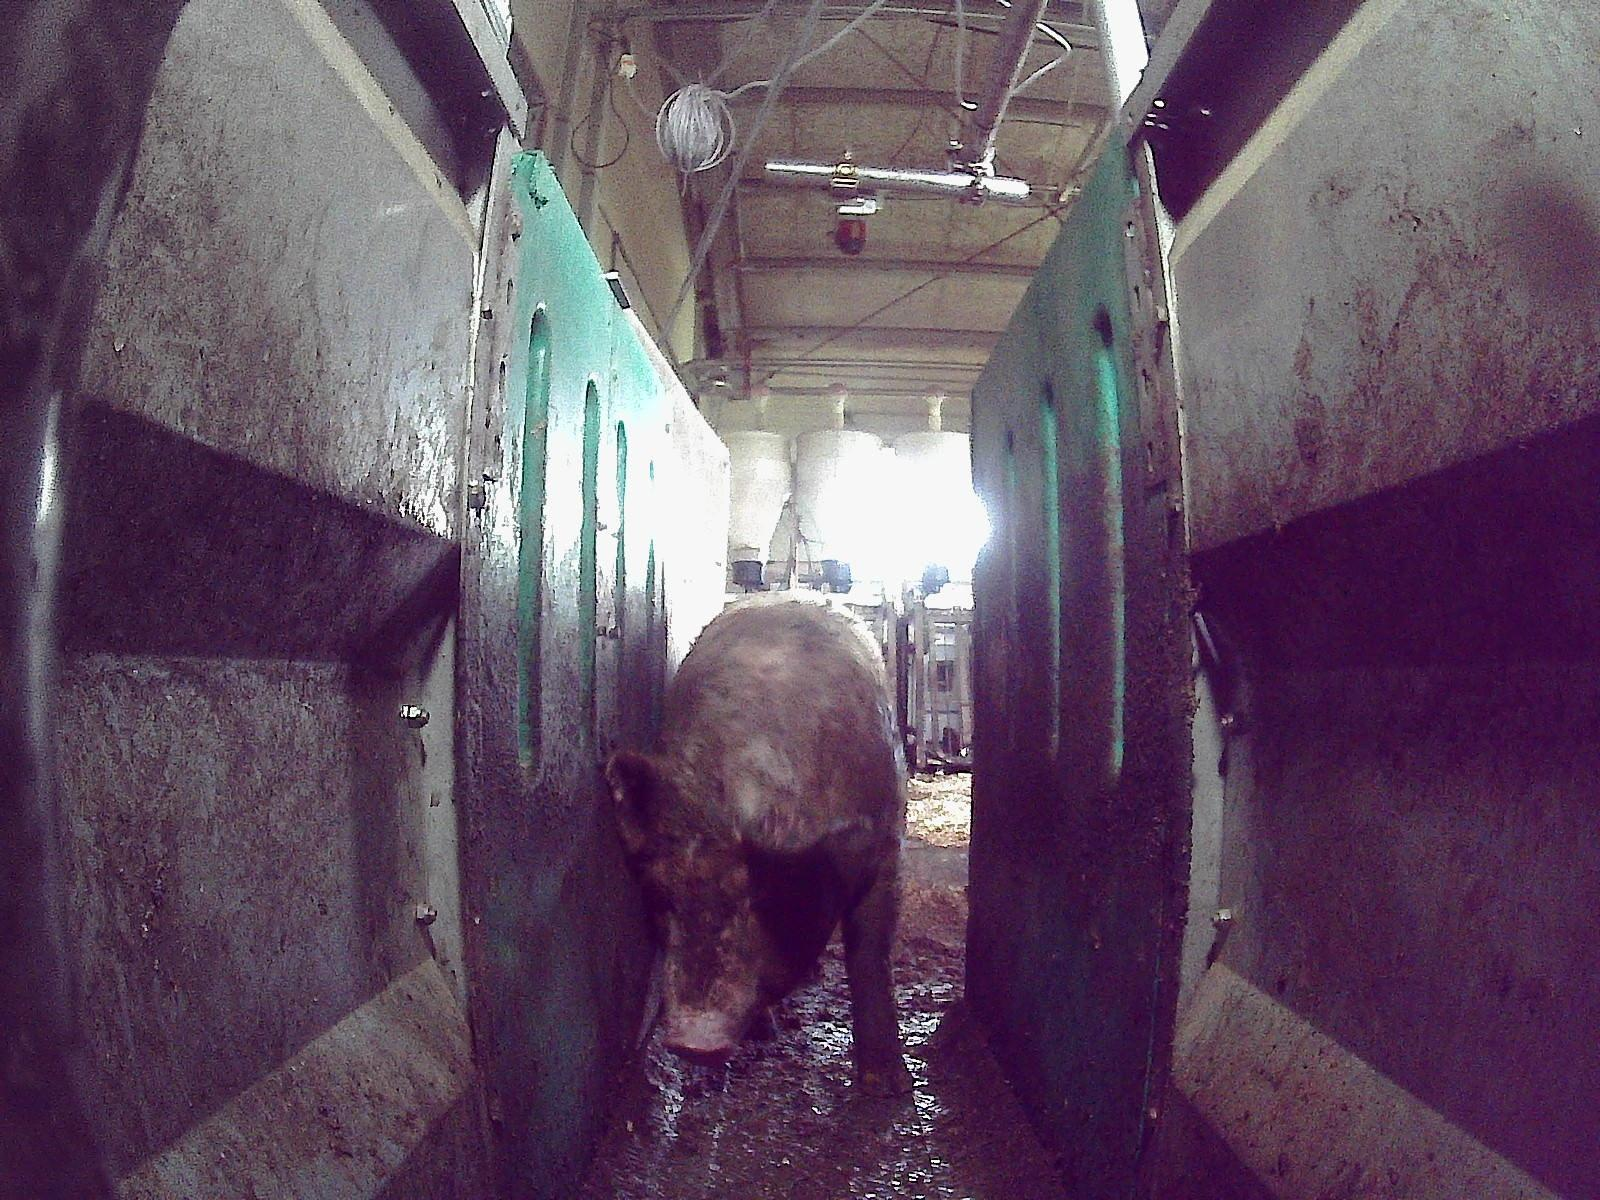Face: (643, 776, 833, 1062)
